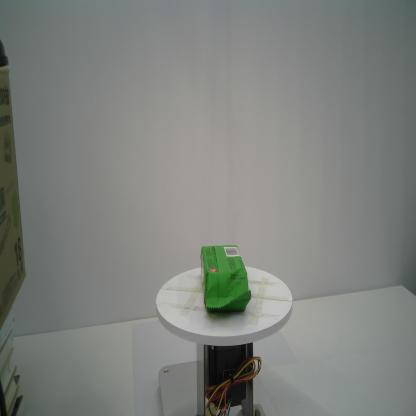Dessert: (199, 244, 252, 315)
